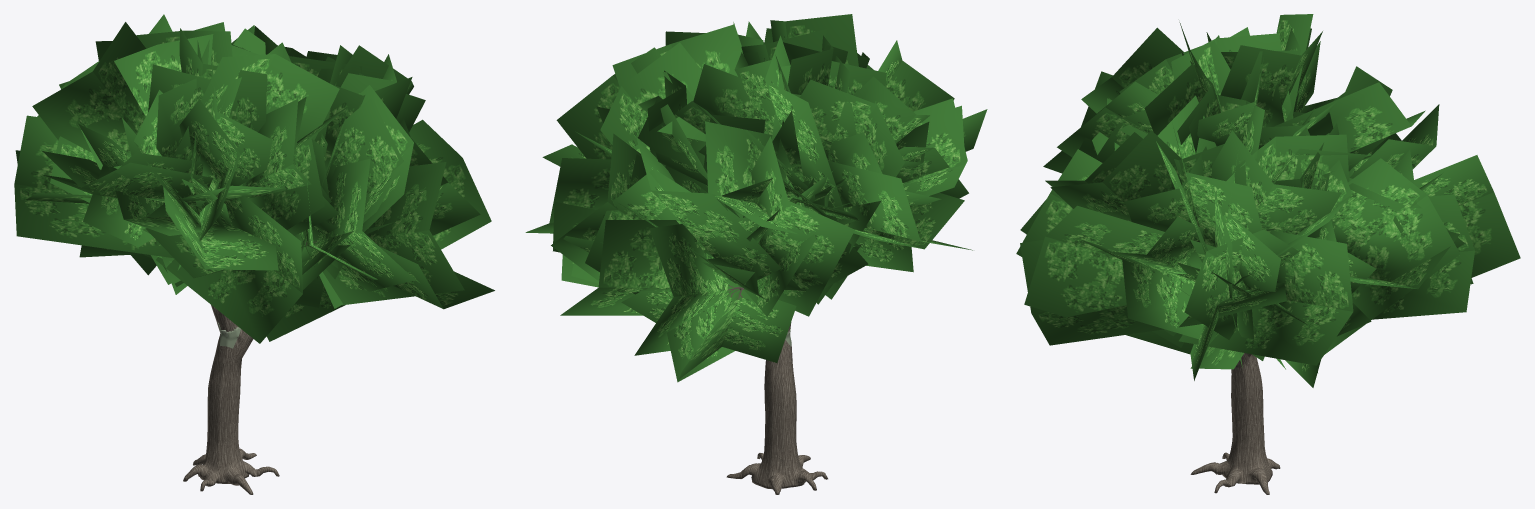
The model's file is environment_elm3_v59.fbx.
3 renders of one model, left to right at view 1: azimuth 30°, elevation 25°; view 2: azimuth 150°, elevation 25°; view 3: azimuth 270°, elevation 25°, orthographic. The views are drawn at different scales.
Parts seen in each view (by area): view 1: environment_elm3_v59_lod0; view 2: environment_elm3_v59_lod0; view 3: environment_elm3_v59_lod0.
Part boxes in pixels (x1,y1,x2,y2): environment_elm3_v59_lod0: [14, 14, 494, 494]; environment_elm3_v59_lod0: [525, 14, 987, 494]; environment_elm3_v59_lod0: [1016, 14, 1520, 494].
Size of what is drawn, in the model's own units: 2871 by 2796 by 2917.
Materials: 3 (3 with a texture image).
